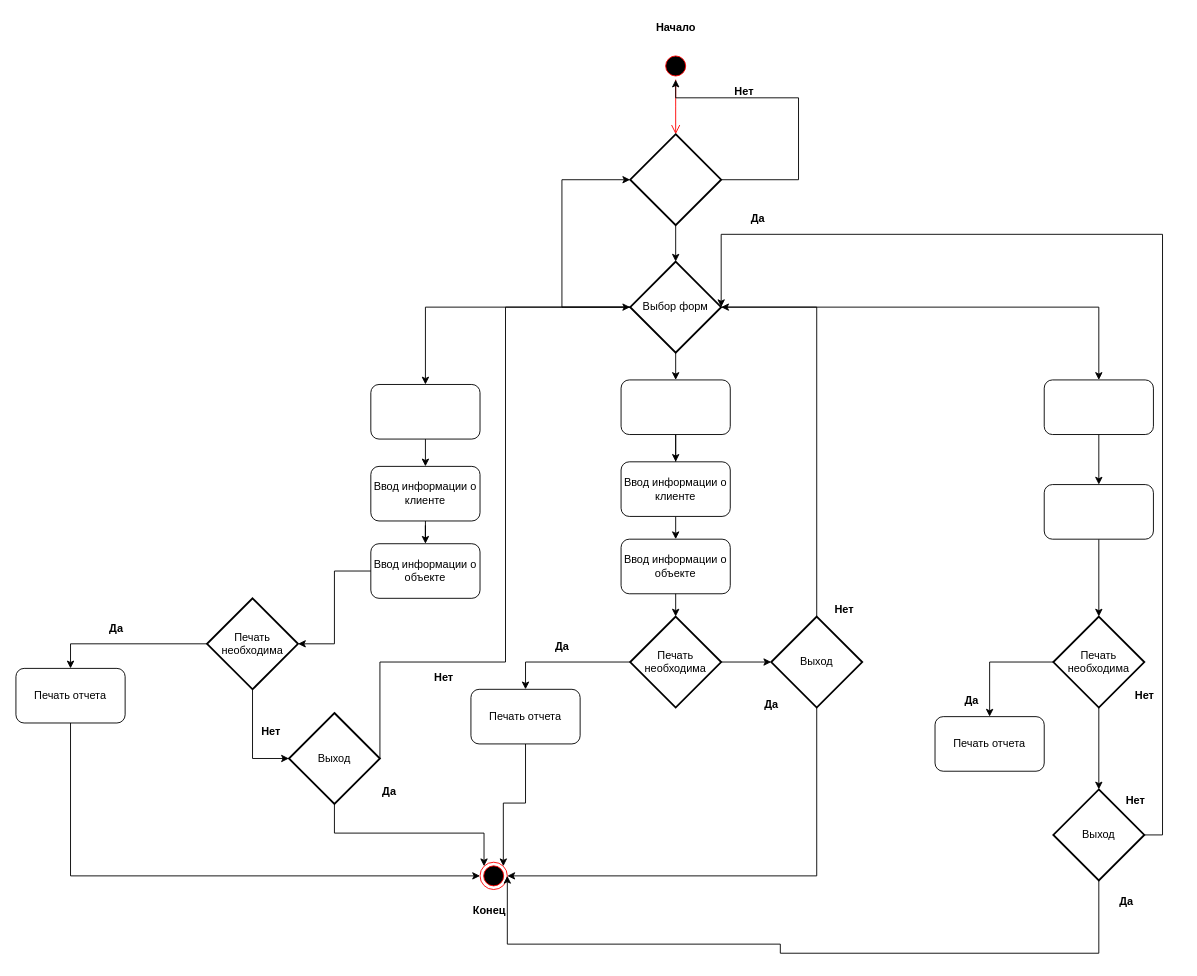
The diagram is 1197 pixels wide and 976 high, and some of its shapes have lost their labels. The centre of each missing label's shape, as x and y in pixels:
Авторизация: pixel 675 179
Просмотр сметы: pixel 1098 407
Редактирование сметы: pixel 1098 511
Составление договора: pixel 675 407
Составление заявки: pixel 425 411
